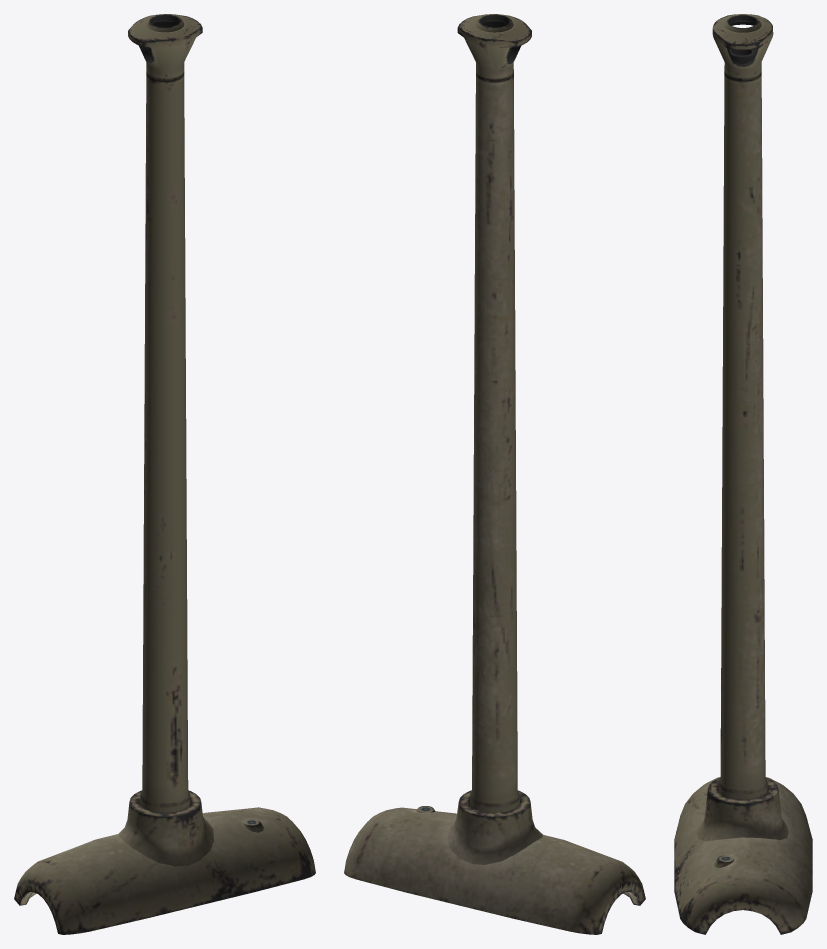
File: Gun_04.glb
3 renders of one model, left to right at view 1: azimuth 30°, elevation 25°; view 2: azimuth 150°, elevation 25°; view 3: azimuth 270°, elevation 25°, orthographic.
Visible parts, largest first — view 1: set_0_group_0; view 2: set_0_group_0; view 3: set_0_group_0.
Part boxes in pixels (x1,y1,x2,y2): set_0_group_0: (14,14,315,934); set_0_group_0: (344,14,645,934); set_0_group_0: (674,14,812,934).
Size of the model in its own units: 1.14 by 3.73 by 0.5478.
1 material, 1 textured.
